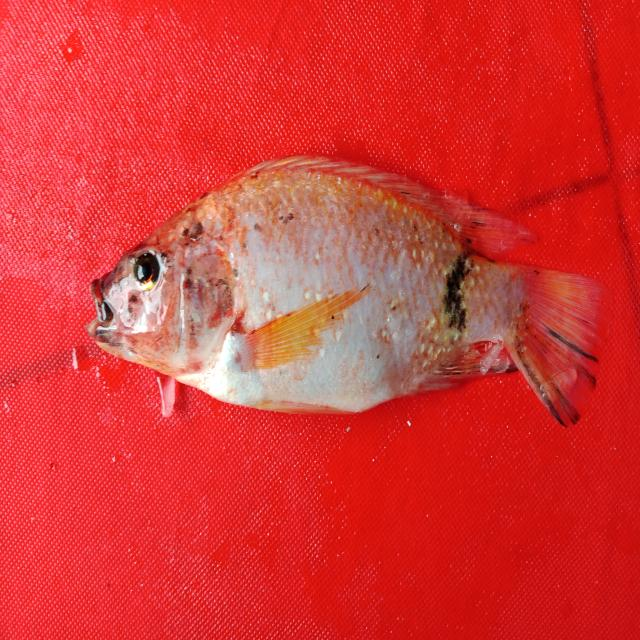ikan: (83, 132, 616, 452)
